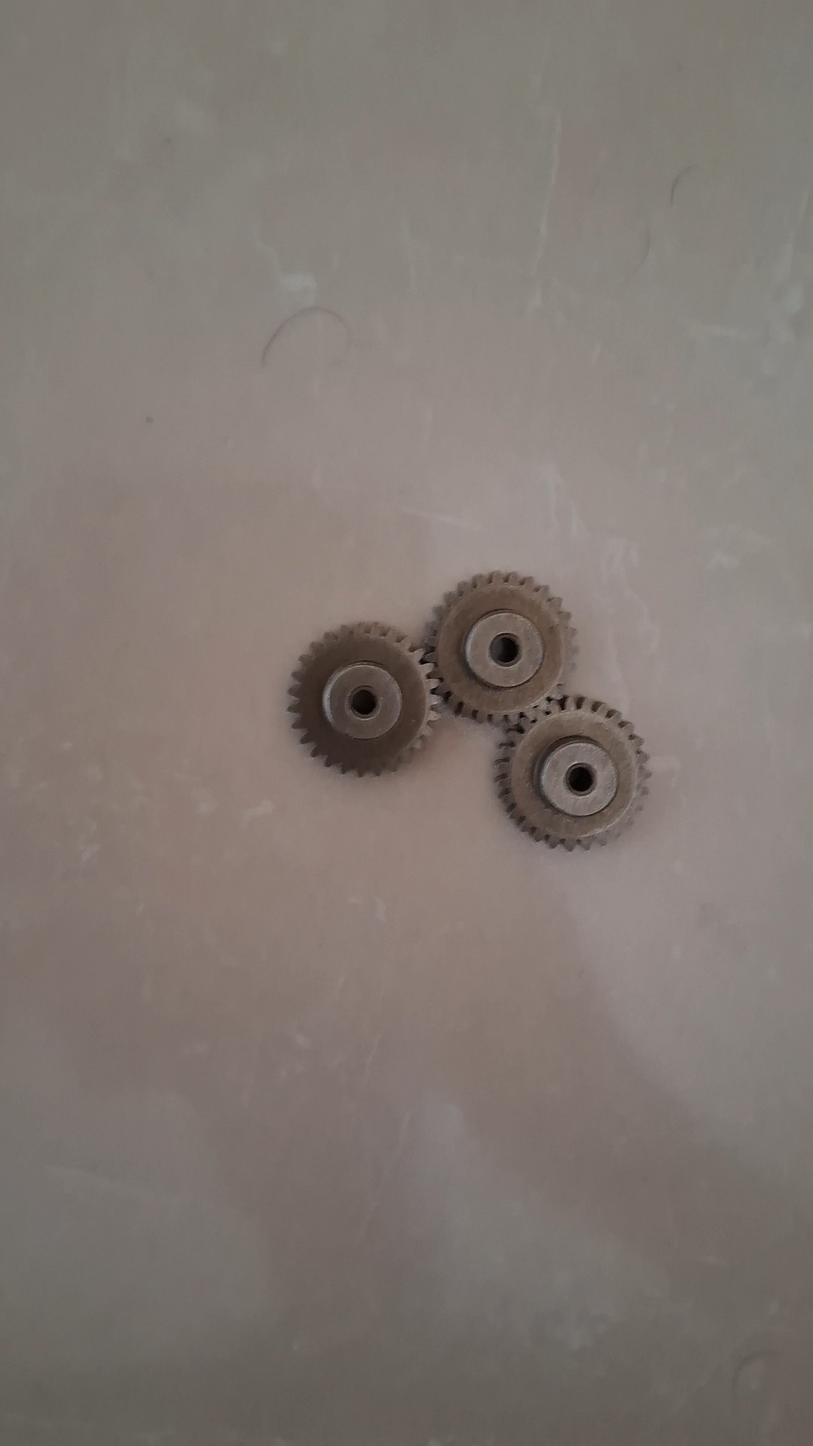spur gear: (496, 696, 649, 849), (289, 622, 437, 775), (425, 572, 575, 721)
